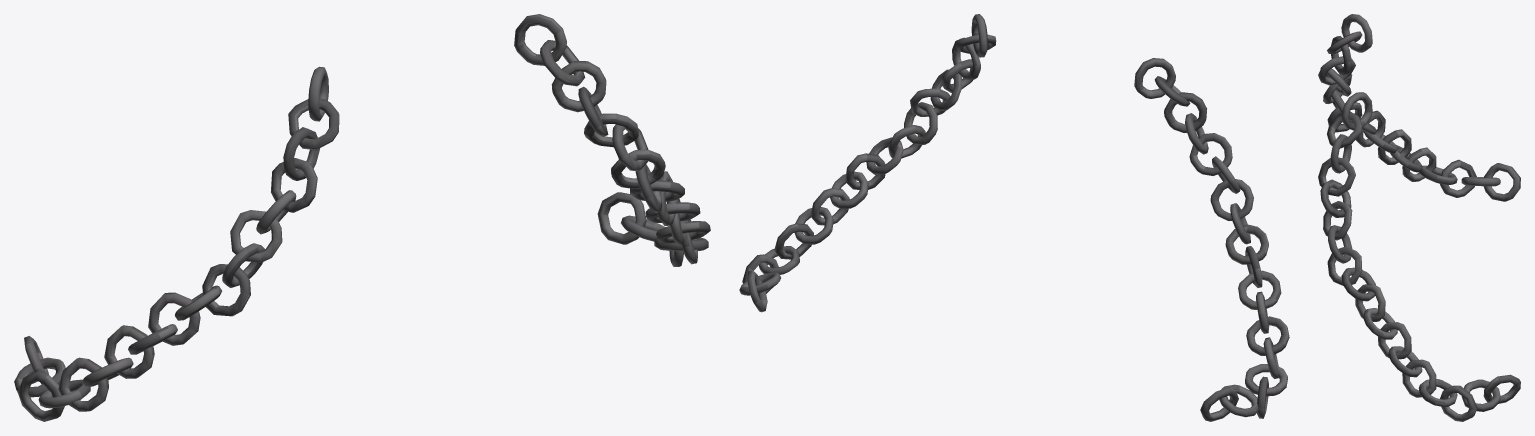
File: Techwear Chain.glb
The picture shows the model from 3 angles, left to right: view 1: azimuth 30°, elevation 25°; view 2: azimuth 150°, elevation 25°; view 3: azimuth 270°, elevation 25°; orthographic projection. The views are drawn at different scales.
Visible parts, largest first — view 1: Chain; view 2: Chain; view 3: Chain.
Boxes of the visible parts, x1=… form: Chain: x1=14, y1=14, x2=710, y2=421; Chain: x1=739, y1=14, x2=1289, y2=421; Chain: x1=1318, y1=14, x2=1520, y2=421.
Size of the model in its own units: 0.5042 by 0.2555 by 0.1845.
Materials: 1 (1 with a texture image).
